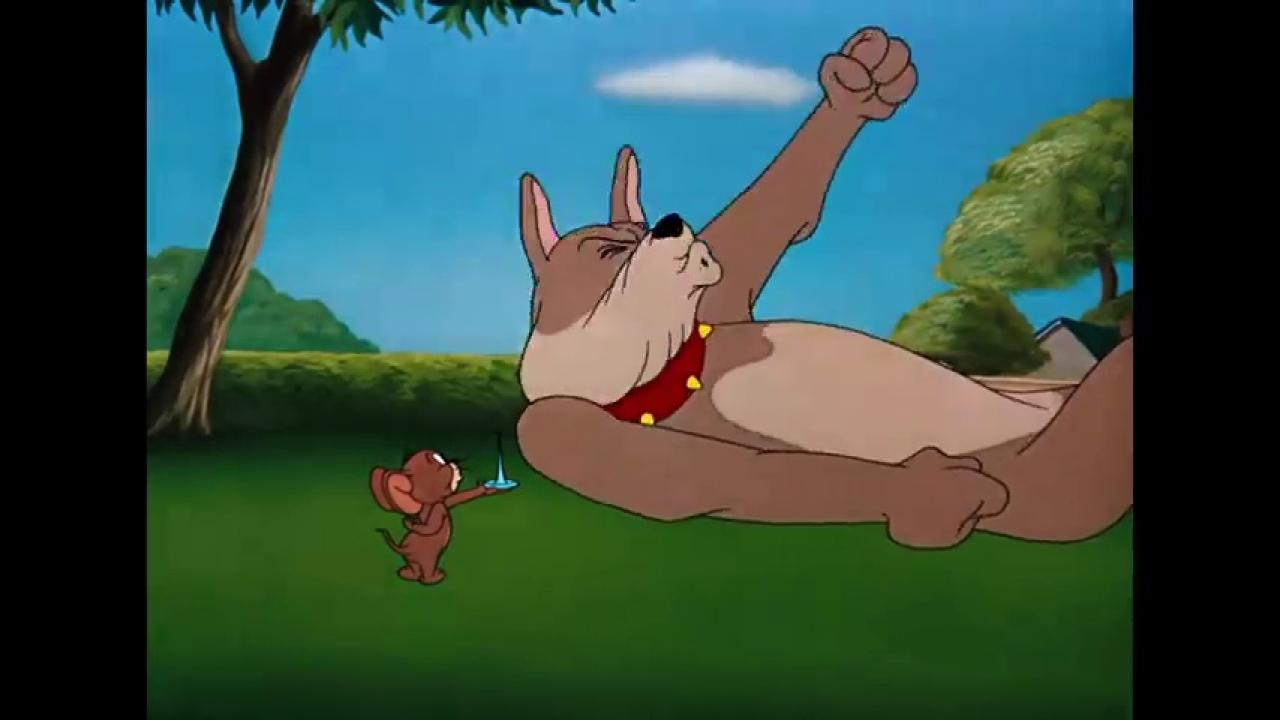Jerry: (366, 442, 502, 587)
